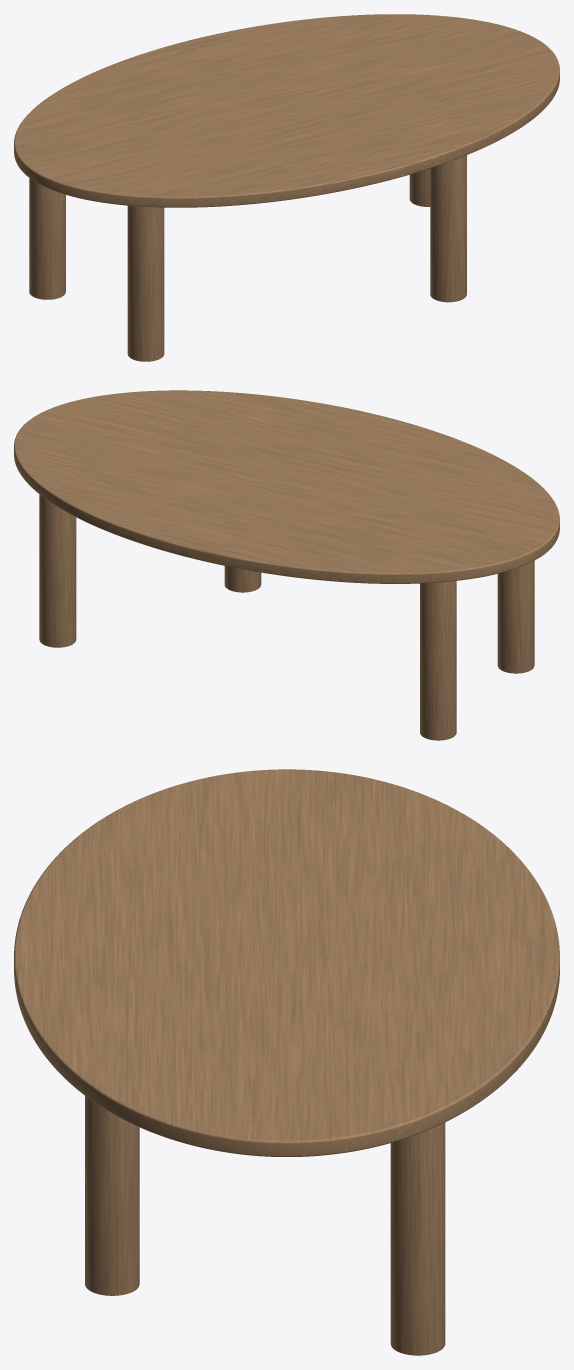
Rendered from short_table.glb.
3 views of the same model, one above another, from view 1: azimuth 30°, elevation 25°; view 2: azimuth 150°, elevation 25°; view 3: azimuth 270°, elevation 25° (orthographic). The views are drawn at different scales.
Visible parts, largest first — view 1: STBL_Oval_top_GLB, STBL_Cylinder_leg_1_GLB, STBL_Cylinder_leg_3_GLB, STBL_Cylinder_leg_2_GLB, STBL_Cylinder_leg_4_GLB; view 2: STBL_Oval_top_GLB, STBL_Cylinder_leg_2_GLB, STBL_Cylinder_leg_4_GLB, STBL_Cylinder_leg_1_GLB, STBL_Cylinder_leg_3_GLB; view 3: STBL_Oval_top_GLB, STBL_Cylinder_leg_4_GLB, STBL_Cylinder_leg_3_GLB.
Boxes of the visible parts, x1,y1,x2,y2 form: STBL_Oval_top_GLB: (14,14,559,207); STBL_Cylinder_leg_1_GLB: (127,205,164,361); STBL_Cylinder_leg_3_GLB: (430,155,466,302); STBL_Cylinder_leg_2_GLB: (29,178,65,299); STBL_Cylinder_leg_4_GLB: (409,168,430,206); STBL_Oval_top_GLB: (14,390,559,583); STBL_Cylinder_leg_2_GLB: (420,581,456,740); STBL_Cylinder_leg_4_GLB: (39,494,76,647); STBL_Cylinder_leg_1_GLB: (497,560,534,673); STBL_Cylinder_leg_3_GLB: (224,566,261,592); STBL_Oval_top_GLB: (14,769,559,1156); STBL_Cylinder_leg_4_GLB: (390,1122,445,1355); STBL_Cylinder_leg_3_GLB: (85,1096,139,1295).
Size of the model in its own units: 1.1 by 0.35 by 0.68.
6 materials, 6 textured.
